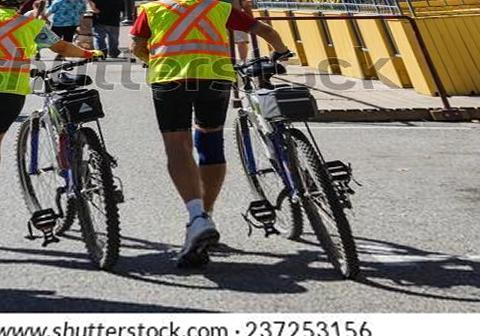Vest: (141, 0, 235, 80)
